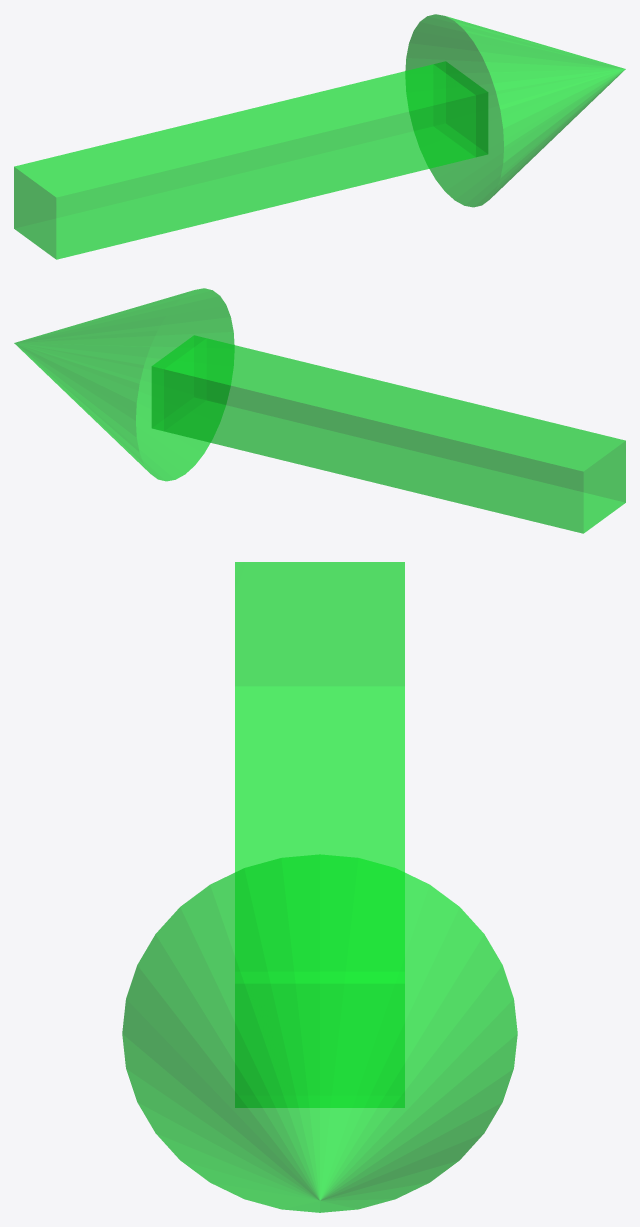
Rendered from greenTArrow.obj.
The picture shows the model from 3 angles, top to bottom: view 1: azimuth 30°, elevation 25°; view 2: azimuth 150°, elevation 25°; view 3: azimuth 270°, elevation 25°; orthographic projection. The views are drawn at different scales.
Parts seen in each view (by area): view 1: Cube, Cone; view 2: Cube, Cone; view 3: Cone, Cube.
Boxes of the visible parts, bbox=[...] form: Cube: bbox=[14, 61, 487, 259]; Cone: bbox=[405, 14, 625, 207]; Cube: bbox=[152, 335, 625, 533]; Cone: bbox=[14, 288, 234, 481]; Cone: bbox=[122, 854, 517, 1212]; Cube: bbox=[235, 562, 404, 1107].
Bounding box in the file's own units: 5.17 × 1.5 × 1.5.
Materials: 1 (1 with a texture image).
